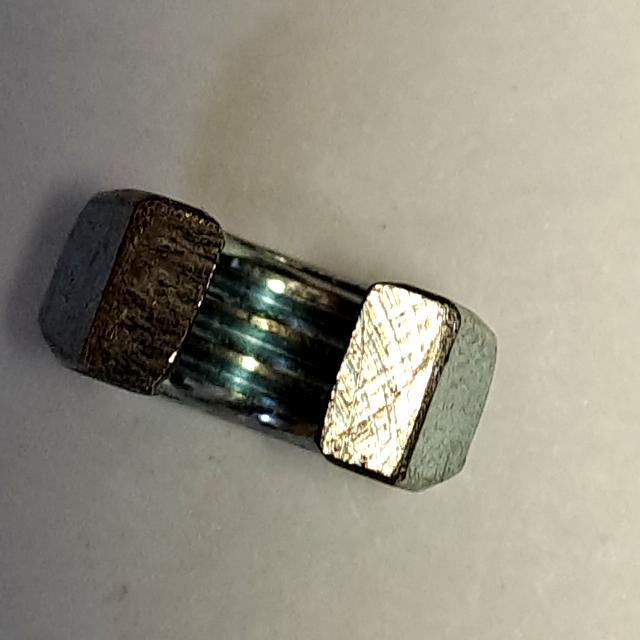Side-Fracture: (25, 173, 510, 511)
